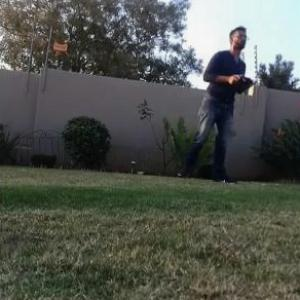follow: (174, 20, 256, 189)
